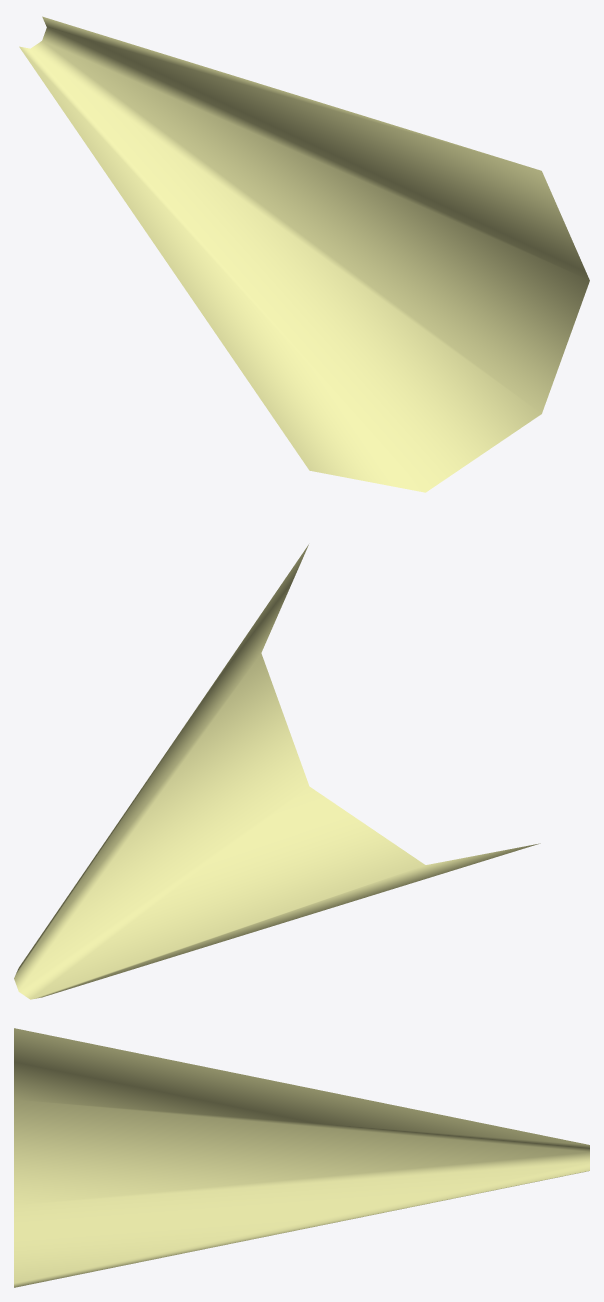
Rendered from TRAINBASE.glb.
The picture shows the model from 3 angles, top to bottom: view 1: azimuth 30°, elevation 25°; view 2: azimuth 150°, elevation 25°; view 3: azimuth 270°, elevation 25°; orthographic projection. The views are drawn at different scales.
Parts seen in each view (by area): view 1: obj1; view 2: obj1; view 3: obj1.
Boxes of the visible parts, left/top/right/bottom form: obj1: left=19, top=16, right=589, bottom=492; obj1: left=14, top=544, right=540, bottom=999; obj1: left=14, top=1028, right=589, bottom=1287.
Size of the model in its own units: 48 by 48 by 100.
